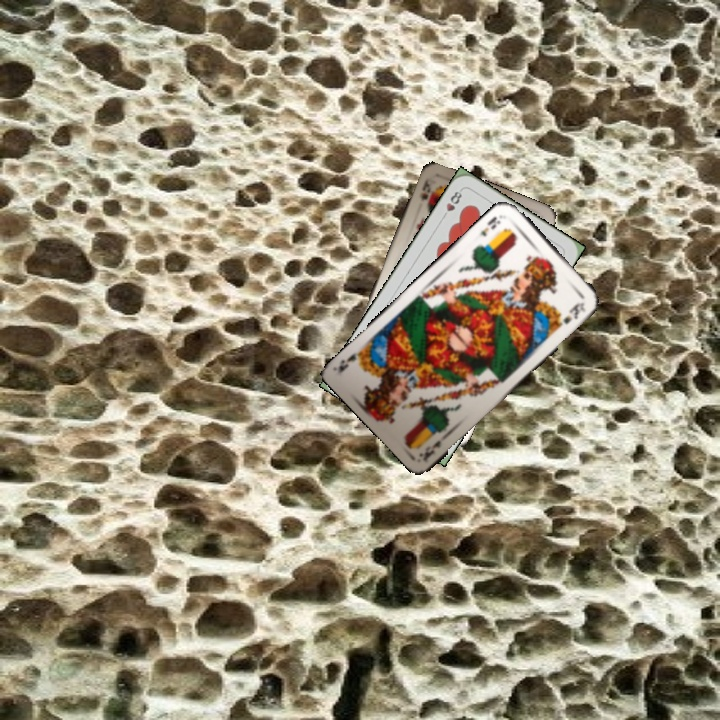EK: (416, 436, 443, 464), (476, 212, 503, 239)
H8: (438, 185, 465, 222)
SK: (416, 174, 437, 203)
